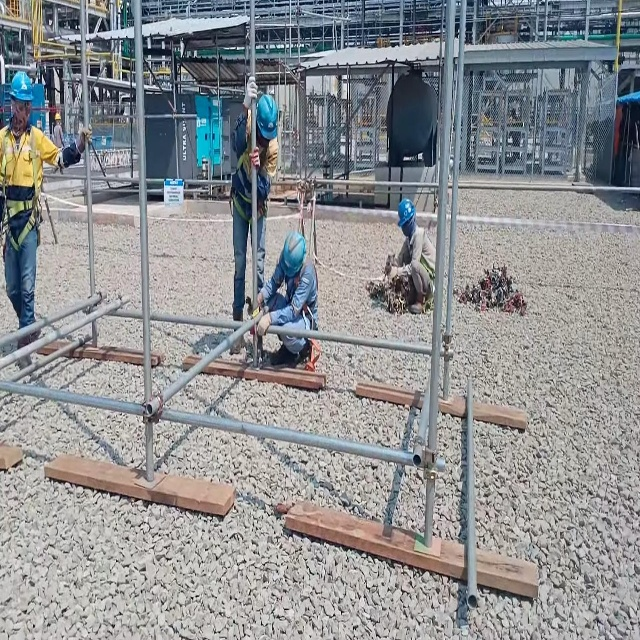Arnes_seguridad: (0, 115, 44, 256), (228, 133, 270, 229)
